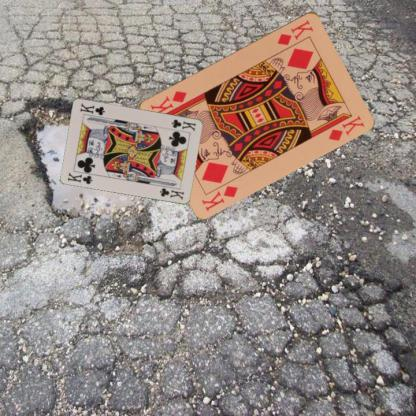Kc: (65, 170, 94, 186), (169, 117, 197, 132)
Kd: (199, 182, 239, 213), (274, 16, 315, 46)
